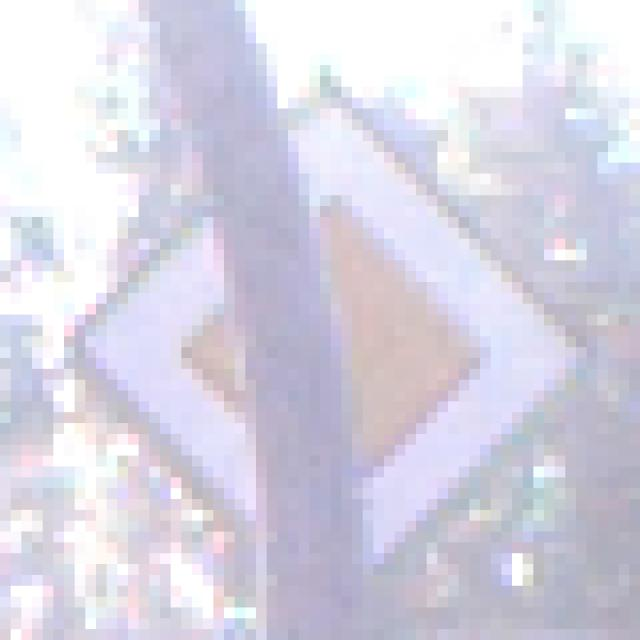Main Road: (65, 55, 588, 576)
